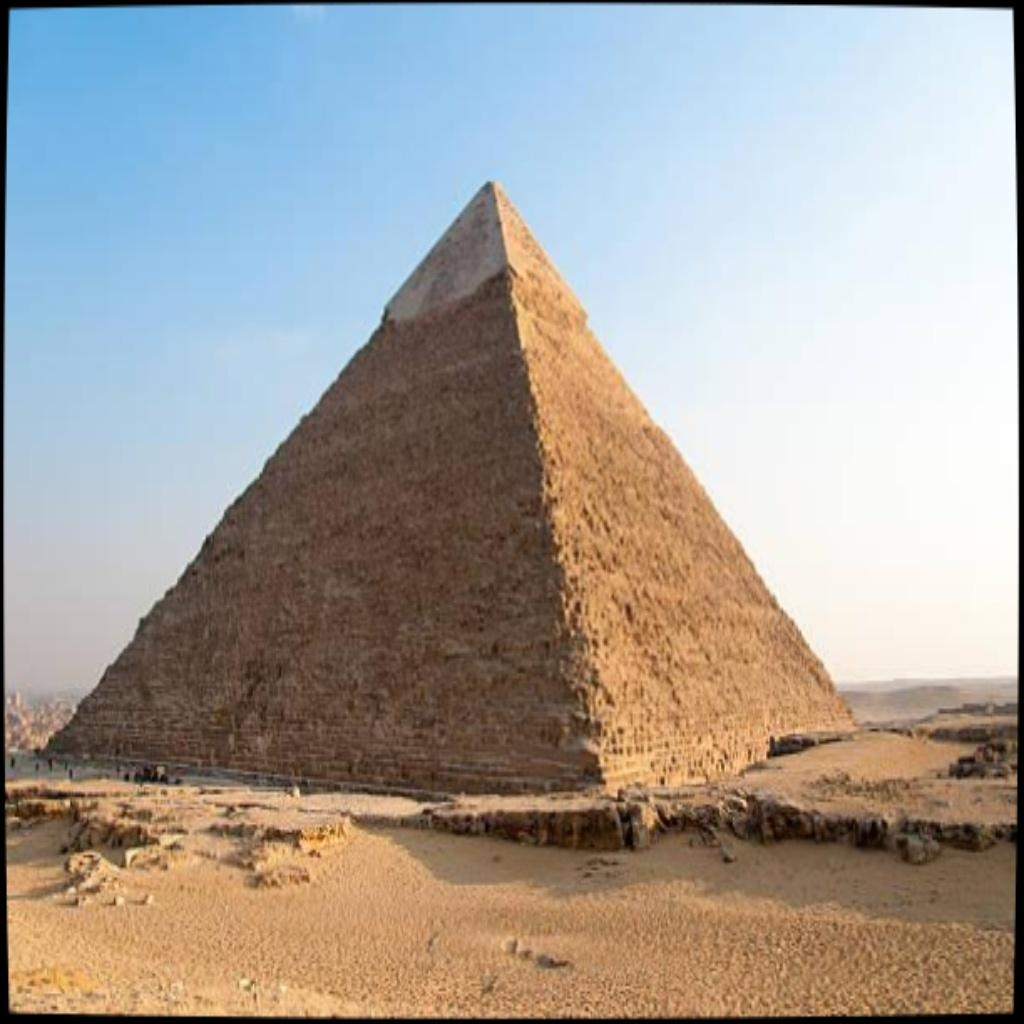Great Pyramids of Giza: (37, 174, 862, 802)
